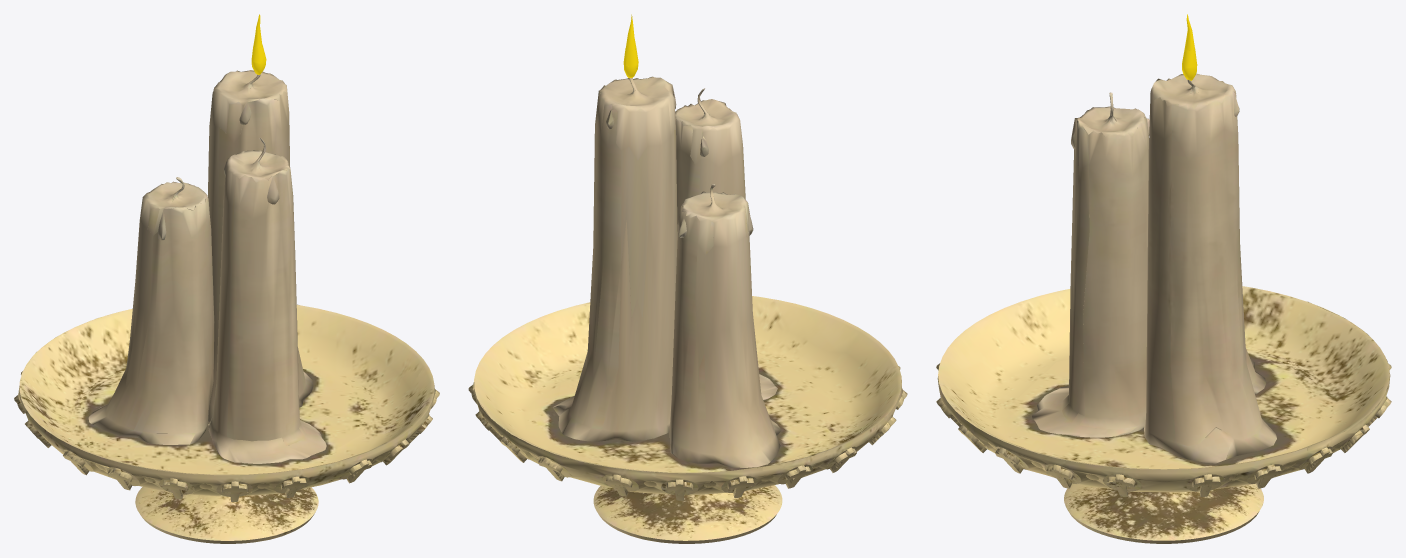
File: coti_three_candles_and_a_golden_c.glb
3 views of the same model, side by side, from view 1: azimuth 30°, elevation 25°; view 2: azimuth 150°, elevation 25°; view 3: azimuth 270°, elevation 25° (orthographic). The views are drawn at different scales.
Visible parts, largest first — view 1: defaultMaterial; view 2: defaultMaterial; view 3: defaultMaterial.
Boxes of the visible parts, x1=… form: defaultMaterial: x1=14, y1=14, x2=439, y2=543; defaultMaterial: x1=468, y1=14, x2=907, y2=543; defaultMaterial: x1=936, y1=14, x2=1391, y2=543.
Bounding box in the file's own units: 0.2401 × 0.3 × 0.2416.
Materials: 3 (3 with a texture image).
